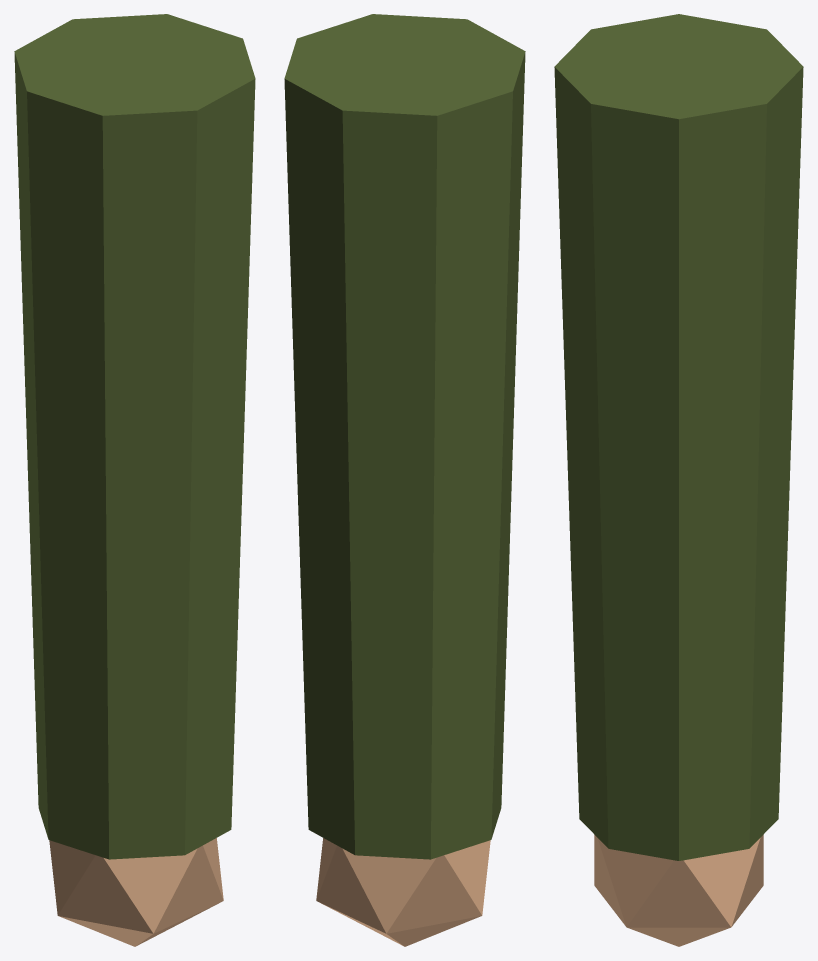
Rendered from insan_k1_kol.glb.
3 views of the same model, side by side, from view 1: azimuth 30°, elevation 25°; view 2: azimuth 150°, elevation 25°; view 3: azimuth 270°, elevation 25° (orthographic).
Parts seen in each view (by area): view 1: Cone; view 2: Cone; view 3: Cone.
Boxes of the visible parts, bbox=[...] form: Cone: bbox=[14, 14, 255, 946]; Cone: bbox=[284, 14, 525, 946]; Cone: bbox=[554, 14, 803, 946].
Bounding box in the file's own units: 0.03 × 0.117 × 0.03.
